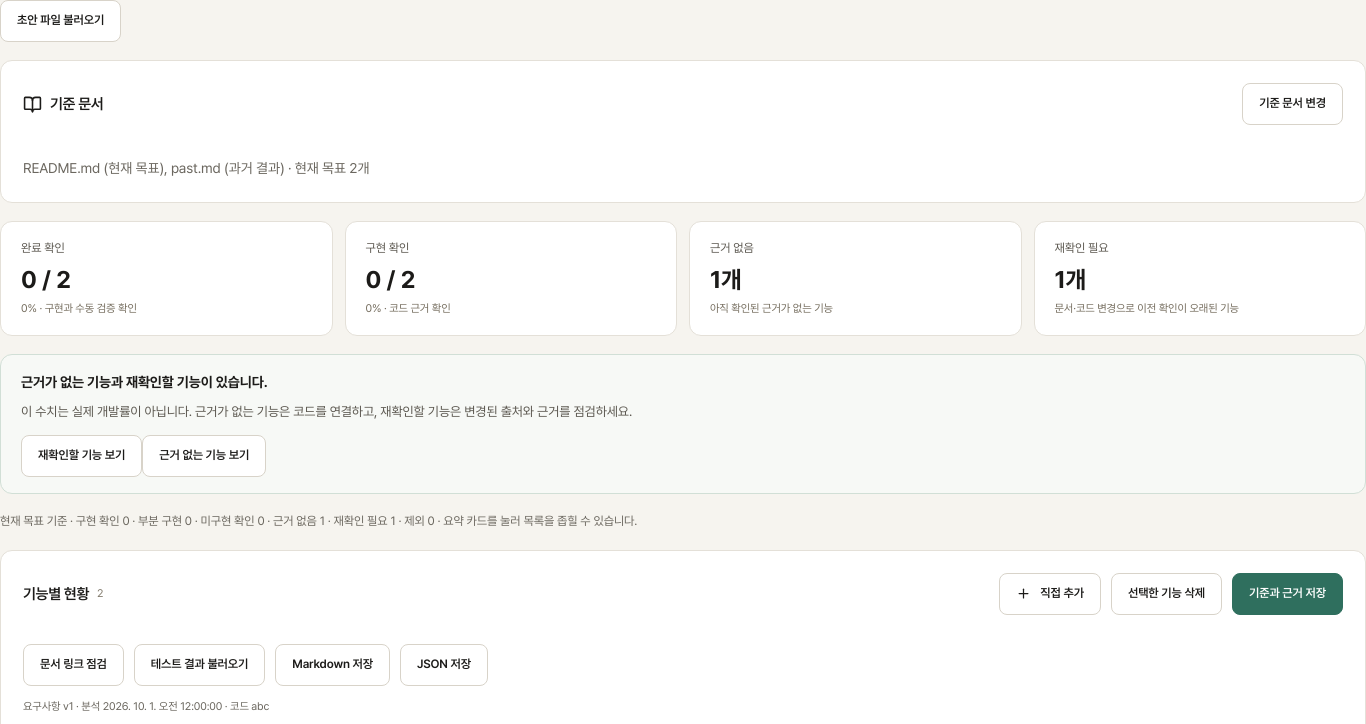
Test case: classifies stale document review separately even without code evidence and directs both next actions
Expected: the button with aria-label "근거 없음 1개 보기" is shown, [689, 221, 1022, 336]
Expected: the button with aria-label "재확인 필요 1개 보기" is shown, [1034, 221, 1365, 336]
Click the button "재확인할 기능 보기" at [82, 456], box [21, 435, 142, 477]
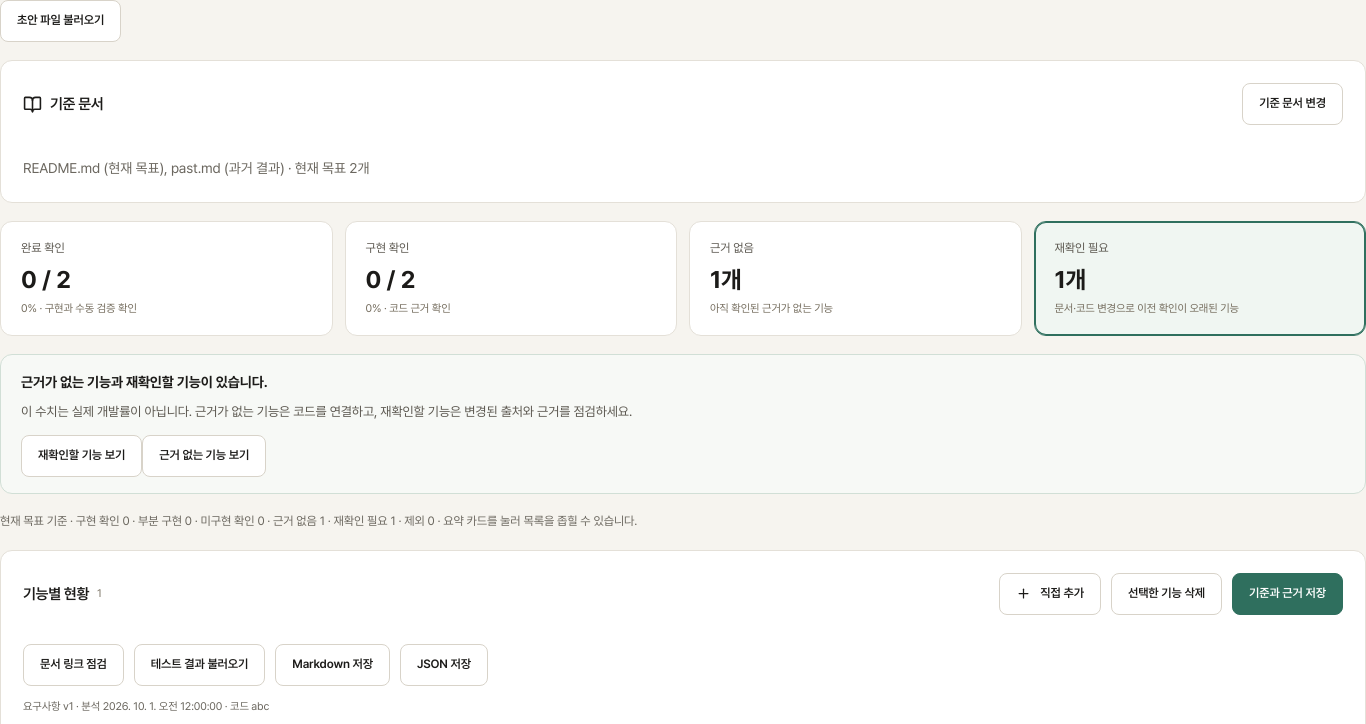
Click the button "근거 없는 기능 보기" at [204, 456], box [142, 435, 266, 477]
(page scrolled)
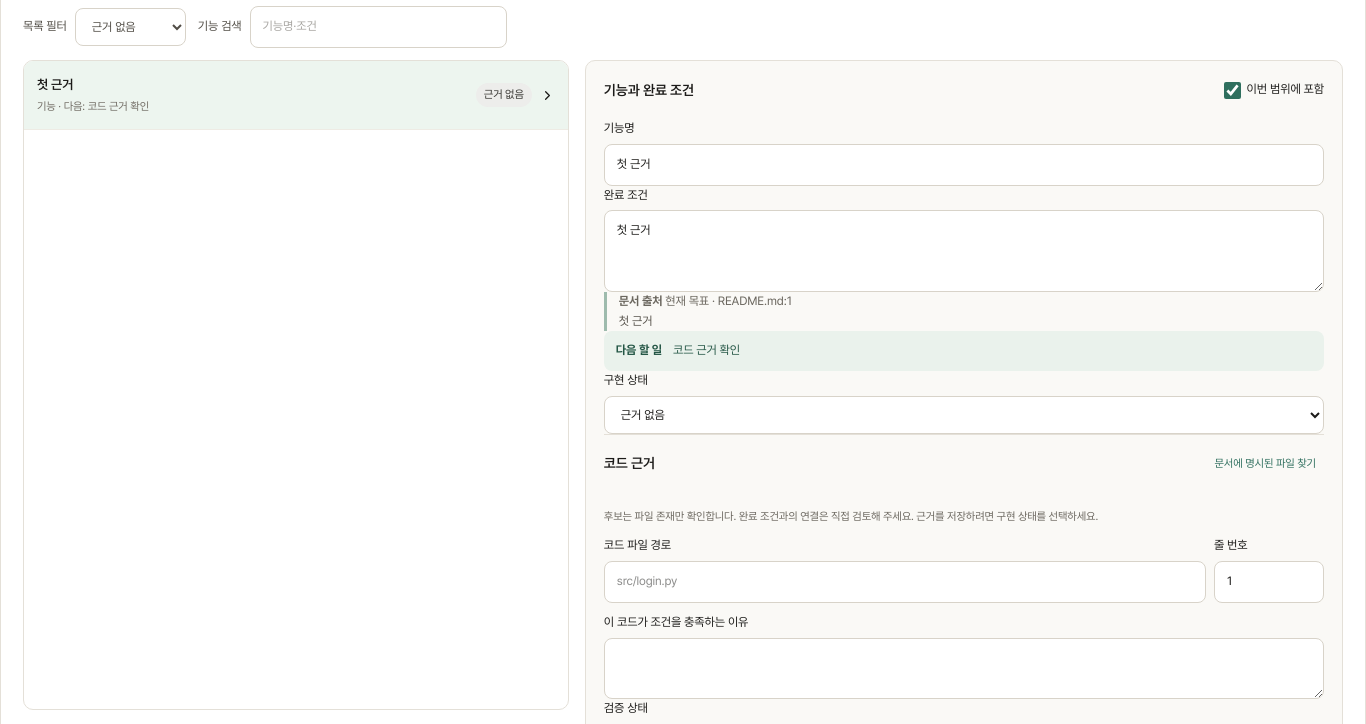
Now the element named "기능 목록" shows "첫 근거", box [24, 61, 568, 130]
Now the field labelled "기능 목록" no longer shows "문서 변경"
